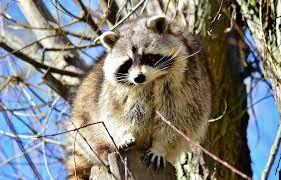raccoon: (59, 6, 225, 180)
